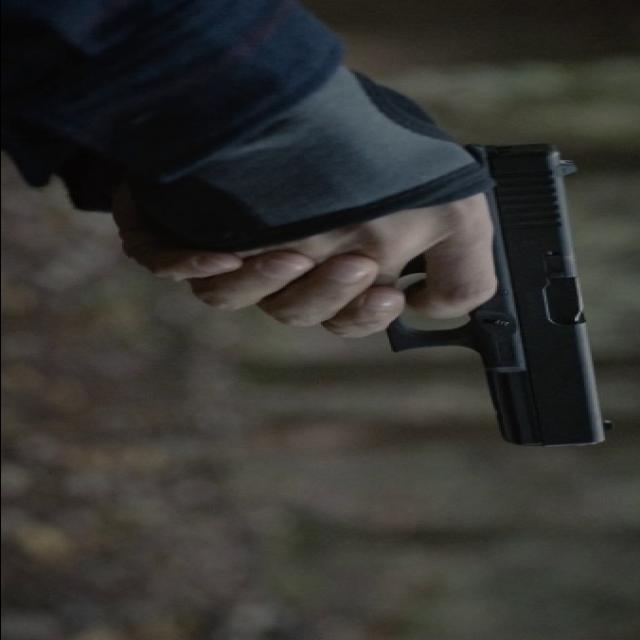weapons: (310, 131, 621, 461)
